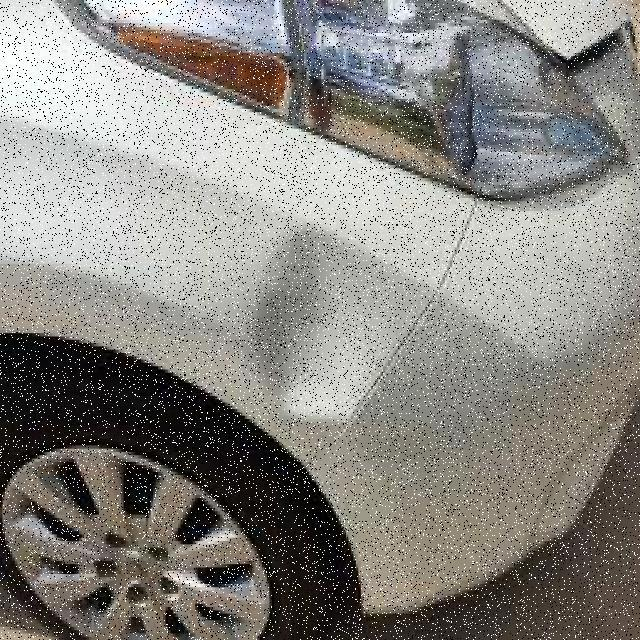fender-dent: (0, 158, 420, 488)
